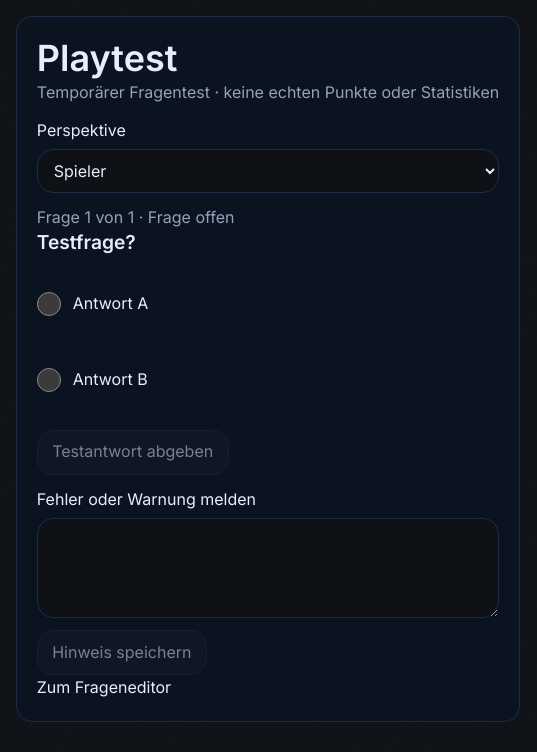
preserves a report after a failed submission and sends no duplicate report after acceptance
Check: the heading "Testfrage?" is shown, box [37, 230, 136, 254]
Type "Bitte prüfen" into the text box labelled "Fehler oder Warnung melden" at (268, 568), box [37, 518, 499, 618]
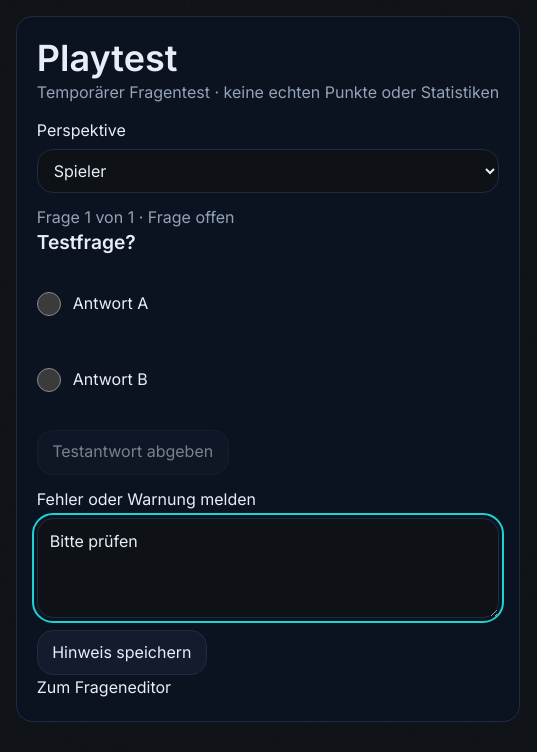
Click the button "Hinweis speichern" at (122, 653), box [37, 630, 207, 675]
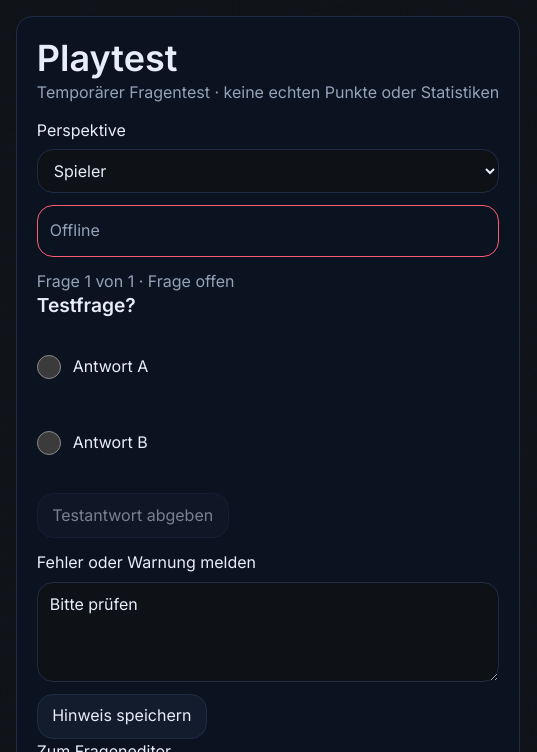
Check: the message reads "Offline", box [50, 220, 100, 240]
Click the button "Hinweis speichern" at (122, 716), box [37, 694, 207, 739]
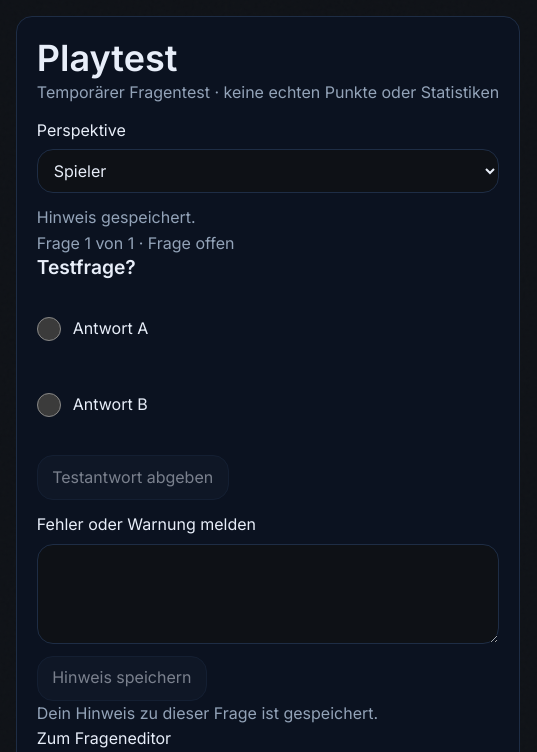
Check: the text "Dein Hinweis zu dieser Frage ist gespeichert." is shown, box [37, 703, 378, 723]
Check: the button "Hinweis speichern" is disabled, box [37, 656, 207, 701]
